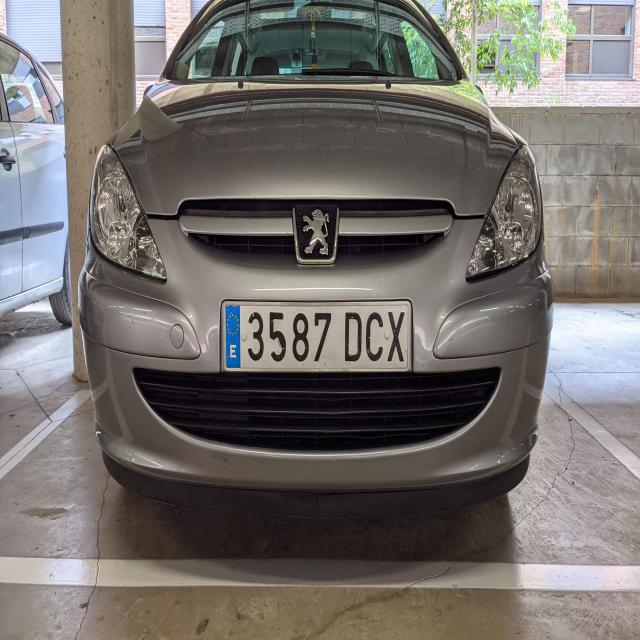license_plate-34Td: (221, 301, 411, 371)
